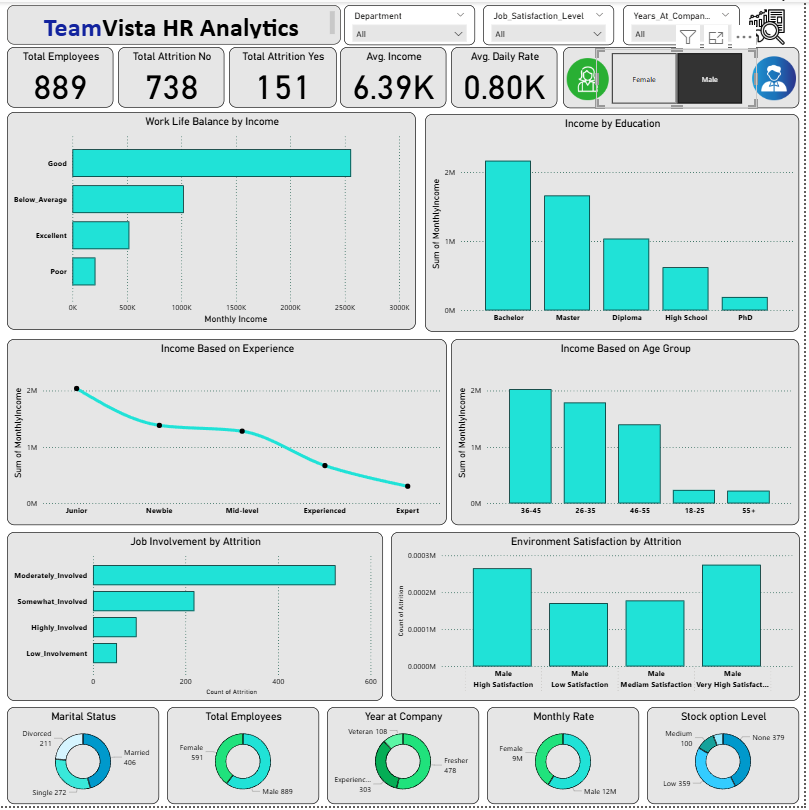

The dashboard page shown, as its layout file describes it:
{"tool":"powerbi","page":{"name":"HR_Analysis_Gender_Wise","canvas":[1300,1300],"ordinal":0},"visuals":[{"type":"textbox","box":[11.4,5.2,540.3,64.4],"z":0},{"type":"card","title":"Total Attrition Yes","fields":{"Values":["Hr_data.Attrition Count Yes"]},"box":[369.9,72.7,173.5,97.7],"z":1000},{"type":"card","title":"Total Attrition No","fields":{"Values":["Hr_data.Attrition Count No"]},"box":[190.6,72.5,172.5,97.7],"z":2000},{"type":"card","title":"Total Employees","fields":{"Values":["Hr_data.Total Employees"]},"box":[11.4,72.5,172.5,97.7],"z":3000},{"type":"card","title":"Avg. Income","fields":{"Values":["Hr_data.Average Income"]},"box":[550.1,72.5,172.5,97.7],"z":4000},{"type":"card","title":"Avg. Daily Rate","fields":{"Values":["Avg(Hr_data.DailyRate)"]},"box":[729.4,72.5,172.5,97.7],"z":5000},{"type":"clusteredBarChart","title":"Work Life Balance by Income","fields":{"Category":["Hr_data.Work_life_balance_level"],"Y":["Sum(Hr_data.MonthlyIncome)"],"Series":["Hr_data.Gender"]},"box":[11.3,177.9,661.3,352.5],"z":6000},{"type":"columnChart","title":"Income by Education","fields":{"Category":["Hr_data.Education_Level"],"Y":["Sum(Hr_data.MonthlyIncome)"],"Series":["Hr_data.Gender"]},"box":[687.2,181.1,604.7,352.5],"z":7000},{"type":"lineChart","title":"Income Based on Experience ","fields":{"Category":["Hr_data.Total_Working_Years_Group"],"Y":["Sum(Hr_data.MonthlyIncome)"],"Series":["Hr_data.Gender"]},"box":[11.3,544.9,711.4,300.7],"z":8000},{"type":"clusteredBarChart","title":"Job Involvement by Attrition","fields":{"Category":["Hr_data.Job_involment_Level"],"Y":["CountNonNull(Hr_data.Attrition)"],"Series":["Hr_data.Gender"]},"box":[11.3,857,608,273.3],"z":9000},{"type":"donutChart","title":"Marital Status ","fields":{"Category":["Hr_data.MaritalStatus"],"Y":["CountNonNull(Hr_data.Gender)"]},"box":[11.3,1139.3,245.8,156.8],"z":10000},{"type":"donutChart","title":"Year at Company ","fields":{"Category":["Hr_data.Years_At_Company_group"],"Y":["CountNonNull(Hr_data.Gender)"]},"box":[528.7,1139.3,245.8,156.8],"z":11000},{"type":"donutChart","title":"Stock option Level ","fields":{"Category":["Hr_data.Stock_option_level"],"Y":["CountNonNull(Hr_data.Gender)"]},"box":[1046.1,1139.3,245.8,156.8],"z":12000},{"type":"donutChart","title":"Monthly Rate","fields":{"Category":["Hr_data.Gender"],"Y":["Sum(Hr_data.MonthlyRate)"]},"box":[787.4,1139.3,245.8,156.8],"z":13000},{"type":"donutChart","title":"Total Employees ","fields":{"Category":["Hr_data.Gender"],"Y":["Hr_data.Total Employees"]},"box":[270,1139.3,245.8,156.8],"z":14000},{"type":"columnChart","title":"Environment Satisfaction by Attrition","fields":{"Category":["Hr_data.Env_Satisfaction_Level","Hr_data.Gender"],"Y":["CountNonNull(Hr_data.Attrition)"]},"box":[632.2,857,661.3,273.3],"z":15000},{"type":"clusteredColumnChart","title":"Income Based on Age Group","fields":{"Y":["Sum(Hr_data.MonthlyIncome)"],"Category":["Hr_data.AgeGroup"],"Series":["Hr_data.Gender"]},"box":[729.2,544.9,562.7,300.7],"z":16000},{"type":"textbox","box":[910.3,72.8,381.6,98.6],"z":17000},{"type":"slicer","fields":{"Values":["Hr_data.Gender"]},"box":[963.7,76,260.3,95.4],"z":18000},{"type":"slicer","fields":{"Values":["Hr_data.Department"]},"box":[556.2,4.9,211.8,64.7],"z":19000},{"type":"slicer","fields":{"Values":["Hr_data.Years_At_Company_group"]},"box":[1007.3,4.9,189.2,64.7],"z":20000},{"type":"slicer","fields":{"Values":["Hr_data.Job_Satisfaction_Level"]},"box":[781,4.9,211.8,64.7],"z":21000},{"type":"image","box":[1211.1,80.8,80.8,85.7],"z":22000},{"type":"image","box":[910.3,85.7,79.2,77.6],"z":23000},{"type":"image","box":[1204.6,0,71.1,80.8],"z":24000}]}

Visuals, with their boxes in screenshot pixels (x1, y1, x2, y2), scaled from the page's 1300x1300 canvas onto the 809x810 screenshot:
textbox: detection(7, 3, 343, 43)
"Total Attrition Yes" card: detection(230, 45, 338, 106)
"Total Attrition No" card: detection(119, 45, 226, 106)
"Total Employees" card: detection(7, 45, 114, 106)
"Avg. Income" card: detection(342, 45, 450, 106)
"Avg. Daily Rate" card: detection(454, 45, 561, 106)
"Work Life Balance by Income" clusteredBarChart: detection(7, 111, 419, 330)
"Income by Education" columnChart: detection(428, 113, 804, 332)
"Income Based on Experience " lineChart: detection(7, 340, 450, 527)
"Job Involvement by Attrition" clusteredBarChart: detection(7, 534, 385, 704)
"Marital Status " donutChart: detection(7, 710, 160, 808)
"Year at Company " donutChart: detection(329, 710, 482, 808)
"Stock option Level " donutChart: detection(651, 710, 804, 808)
"Monthly Rate" donutChart: detection(490, 710, 643, 808)
"Total Employees " donutChart: detection(168, 710, 321, 808)
"Environment Satisfaction by Attrition" columnChart: detection(393, 534, 805, 704)
"Income Based on Age Group" clusteredColumnChart: detection(454, 340, 804, 527)
textbox: detection(566, 45, 804, 107)
slicer - Hr_data.Gender: detection(600, 47, 762, 107)
slicer - Hr_data.Department: detection(346, 3, 478, 43)
slicer - Hr_data.Years_At_Company_group: detection(627, 3, 745, 43)
slicer - Hr_data.Job_Satisfaction_Level: detection(486, 3, 618, 43)
image: detection(754, 50, 804, 104)
image: detection(566, 53, 616, 102)
image: detection(750, 0, 794, 50)
